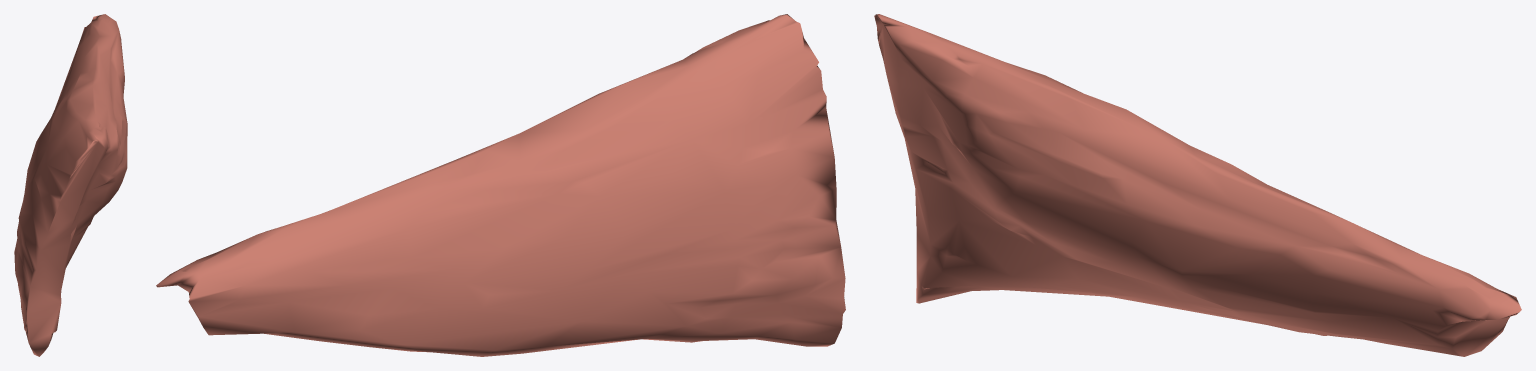
The picture shows the model from 3 angles, left to right: view 1: azimuth 30°, elevation 25°; view 2: azimuth 150°, elevation 25°; view 3: azimuth 270°, elevation 25°; orthographic projection. The views are drawn at different scales.
Parts seen in each view (by area): view 1: 右侧头后大直肌; view 2: 右侧头后大直肌; view 3: 右侧头后大直肌.
Part boxes in pixels (x1=…): 右侧头后大直肌: x1=14, y1=14, x2=127, y2=356; 右侧头后大直肌: x1=156, y1=14, x2=845, y2=356; 右侧头后大直肌: x1=874, y1=14, x2=1521, y2=356.
Bounding box in the file's own units: 0.052 × 0.0373 × 0.0687.
